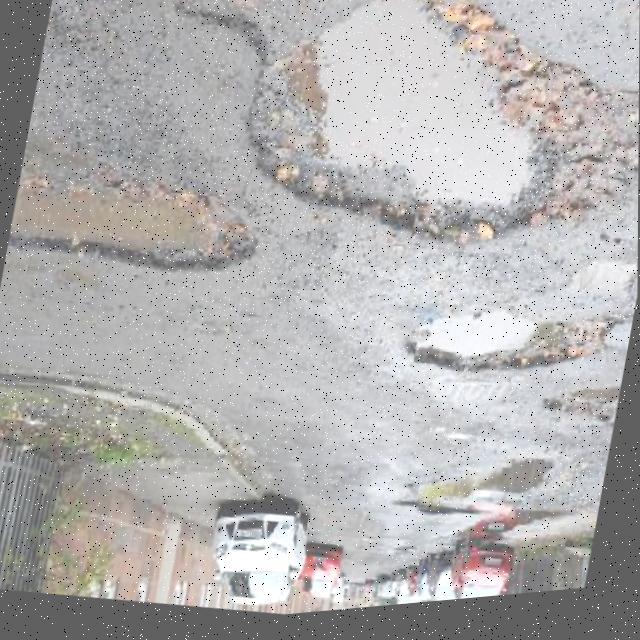Pothole: (215, 0, 640, 307), (3, 145, 272, 307), (396, 283, 627, 416), (391, 471, 490, 537), (481, 451, 560, 521), (540, 378, 622, 443)
